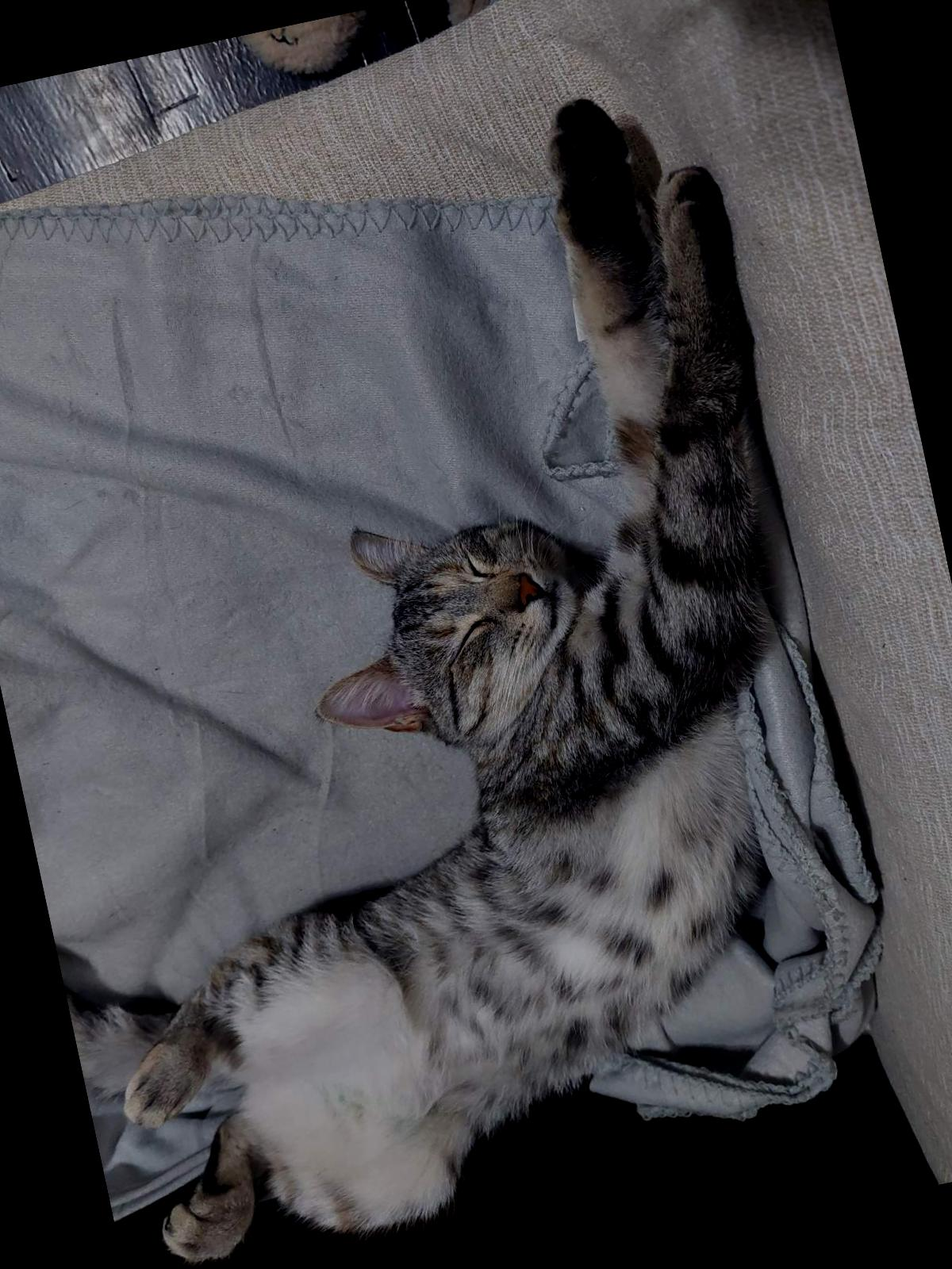macka: (0, 75, 916, 1269)
